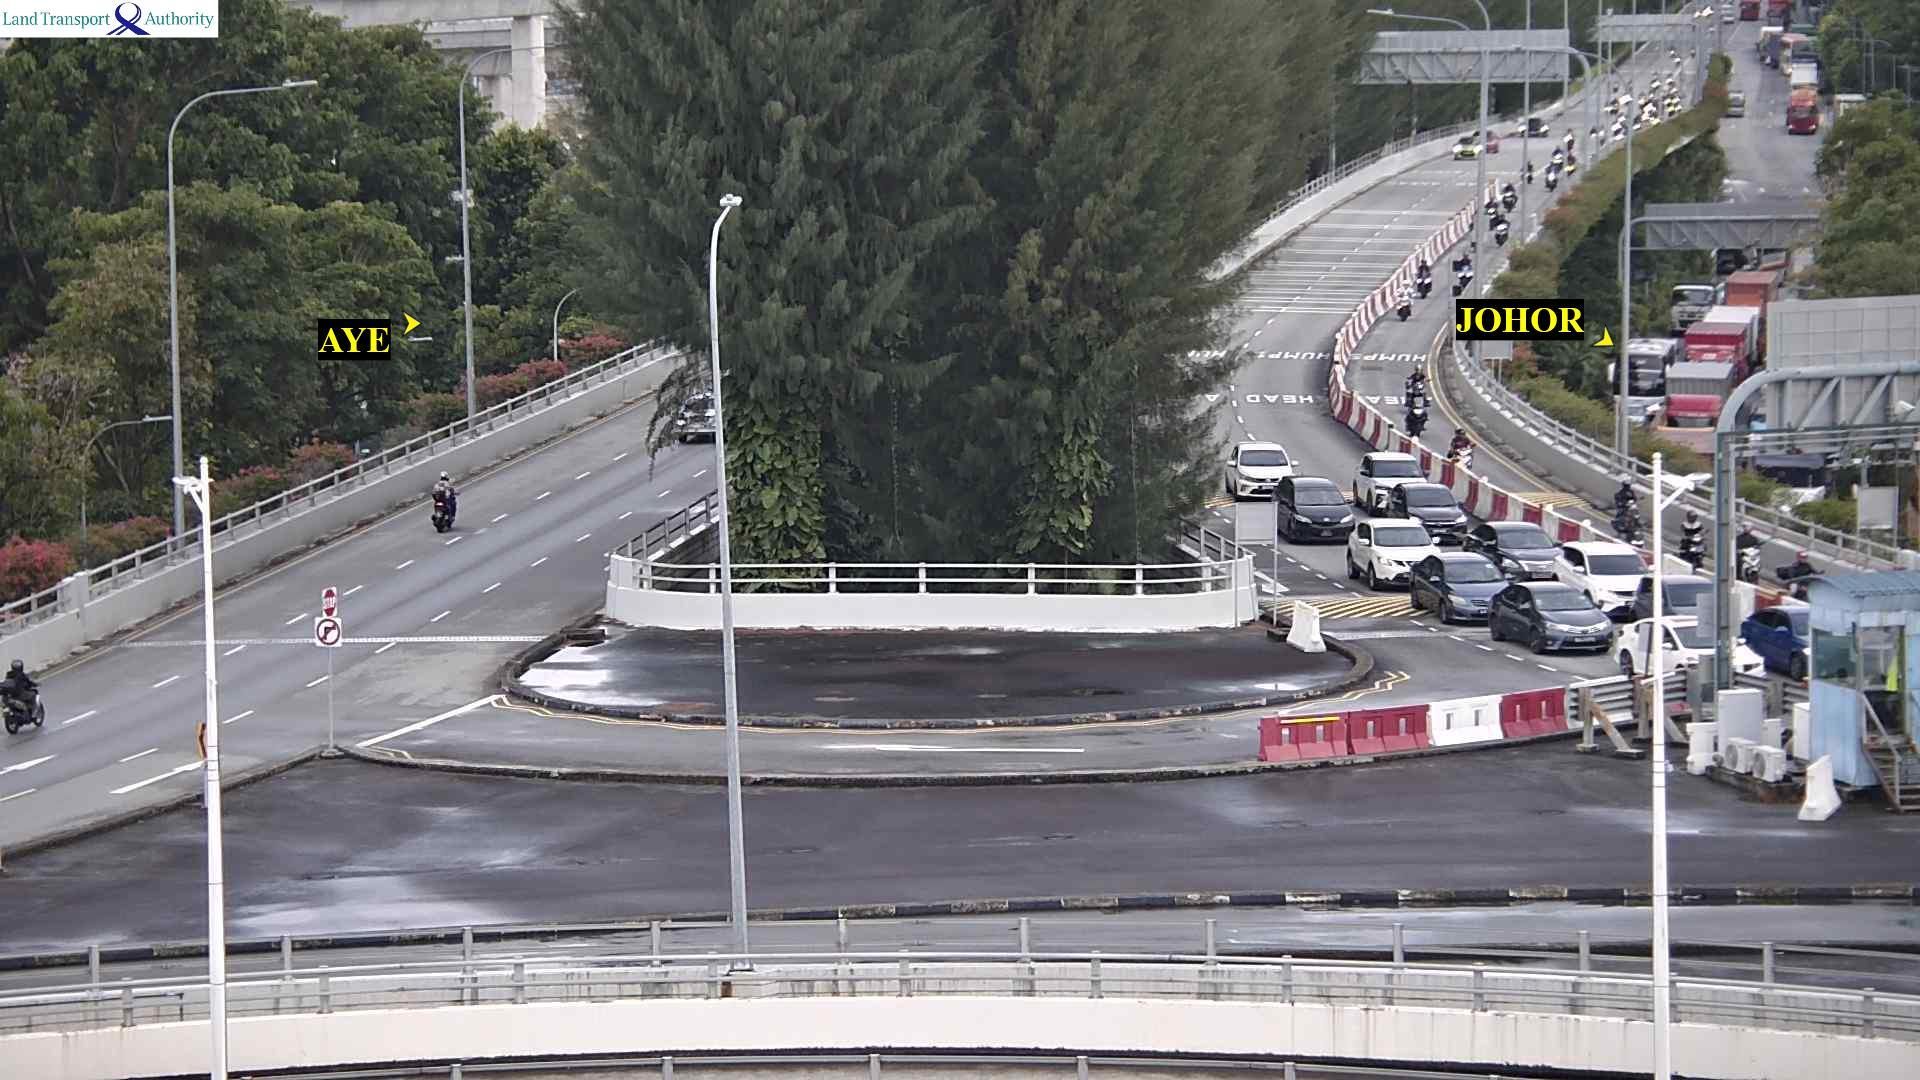vehicle-secondlink-johor: (1627, 579, 1803, 636), (1489, 589, 1643, 647), (1410, 566, 1540, 622), (1453, 524, 1571, 576), (1362, 483, 1476, 534), (1274, 476, 1357, 543), (1338, 524, 1456, 554), (1232, 440, 1288, 498), (1361, 454, 1445, 488), (1742, 530, 1763, 579), (1407, 389, 1427, 438), (1684, 512, 1701, 560), (1452, 430, 1474, 467), (1615, 477, 1630, 520), (1419, 260, 1435, 298), (1455, 135, 1478, 156), (1408, 359, 1425, 388), (1394, 282, 1410, 311), (1519, 120, 1549, 135), (1495, 214, 1507, 244), (1457, 256, 1474, 276), (1503, 185, 1516, 208), (1486, 195, 1497, 222), (1545, 165, 1556, 187), (1486, 132, 1498, 150), (1552, 148, 1561, 166)
vehicle-secondlink-singapore: (1, 665, 51, 740), (426, 468, 459, 531)
